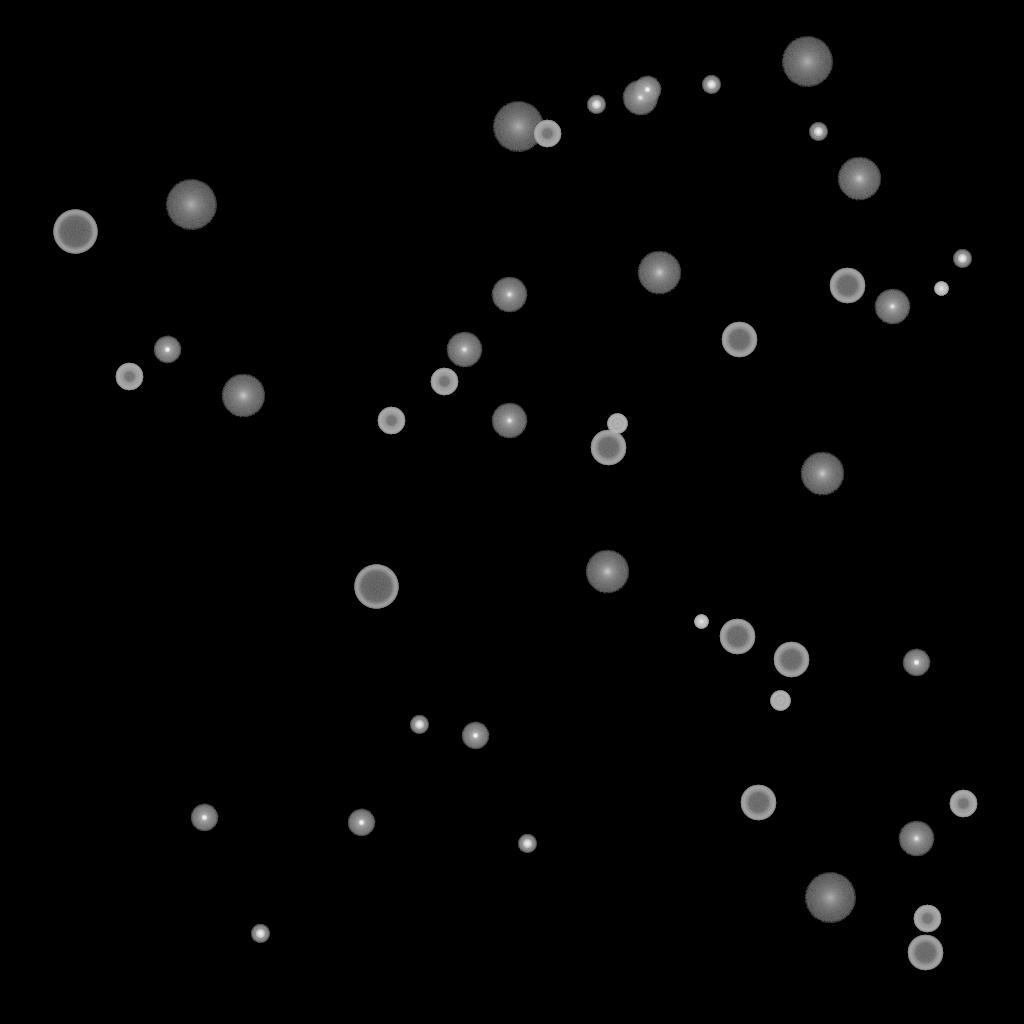depth:-10: (347, 809, 375, 837), (461, 722, 489, 750), (190, 804, 218, 832), (902, 649, 930, 677), (633, 76, 661, 104), (153, 336, 181, 364)
depth:-20: (953, 250, 971, 268), (702, 76, 720, 94), (410, 716, 428, 734), (251, 925, 269, 943), (518, 835, 536, 853), (809, 123, 827, 141), (587, 96, 605, 114)
depth:-30: (694, 615, 708, 629), (934, 282, 948, 296)
depth:-40: (607, 414, 627, 434), (770, 691, 790, 711)
depth:-50: (949, 790, 977, 818), (913, 905, 941, 933), (115, 363, 143, 391), (377, 407, 405, 435), (430, 368, 458, 396), (533, 120, 561, 148)
depth:-60: (907, 935, 943, 971), (829, 268, 865, 304), (719, 619, 755, 655), (773, 642, 809, 678), (721, 322, 757, 358), (590, 430, 626, 466), (740, 785, 776, 821)
depth:-70: (354, 565, 398, 609), (53, 210, 97, 254)
depth:0: (491, 403, 527, 439), (446, 332, 482, 368), (874, 289, 910, 325), (622, 80, 658, 116), (898, 821, 934, 857), (491, 277, 527, 313)
depth:10: (221, 374, 265, 418), (837, 157, 881, 201), (637, 251, 681, 295), (585, 550, 629, 594), (800, 452, 844, 496)
depth:20: (492, 102, 544, 152), (165, 180, 217, 230), (804, 873, 856, 923), (781, 37, 833, 87)
